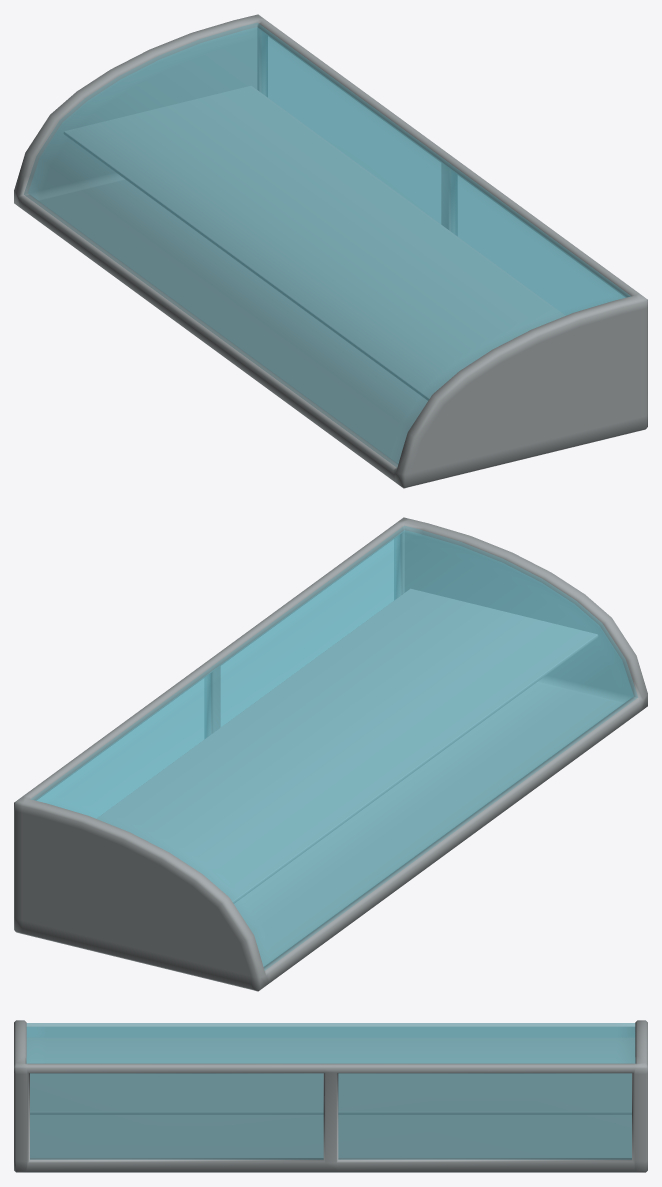
File: BakeryCase2.fbx
3 renders of one model, top to bottom at view 1: azimuth 30°, elevation 25°; view 2: azimuth 150°, elevation 25°; view 3: azimuth 270°, elevation 25°, orthographic. The views are drawn at different scales.
Visible parts, largest first — view 1: bakerycase.001; view 2: bakerycase.001; view 3: bakerycase.001.
Boxes of the visible parts, x1,y1,x2,y2 form: bakerycase.001: (14,14,647,488); bakerycase.001: (14,517,647,991); bakerycase.001: (14,1020,647,1172).
Size of the model in its own units: 129 by 65.54 by 352.
